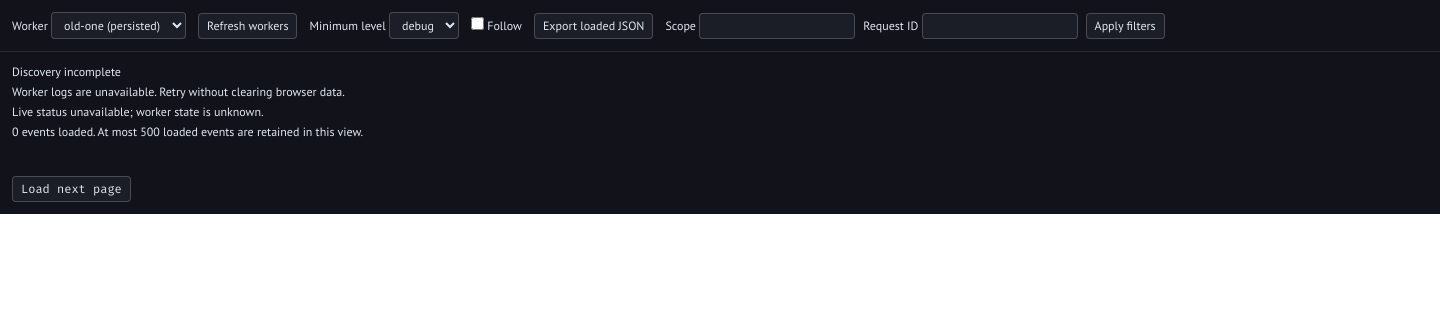
Scenario: clears a recovered read error without hiding discovery failures
The width and height of the screenshot is (1440, 317).
Expected: the text "Worker logs are unavailable. Retry without clearing browser data." is shown, [12, 84, 345, 99]
Click the button "Apply filters": (1125, 26) [1086, 12, 1165, 38]
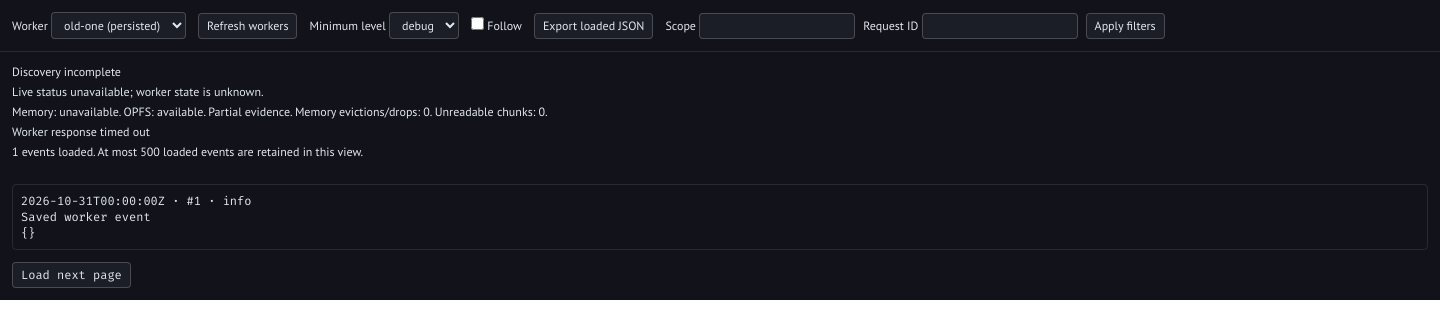
Expected: the text "Discovery incomplete" is shown, [12, 64, 121, 79]
Result: the text "Saved worker event" is shown at [21, 210, 151, 224]
Result: the text "Worker logs are unavailable" is gone
